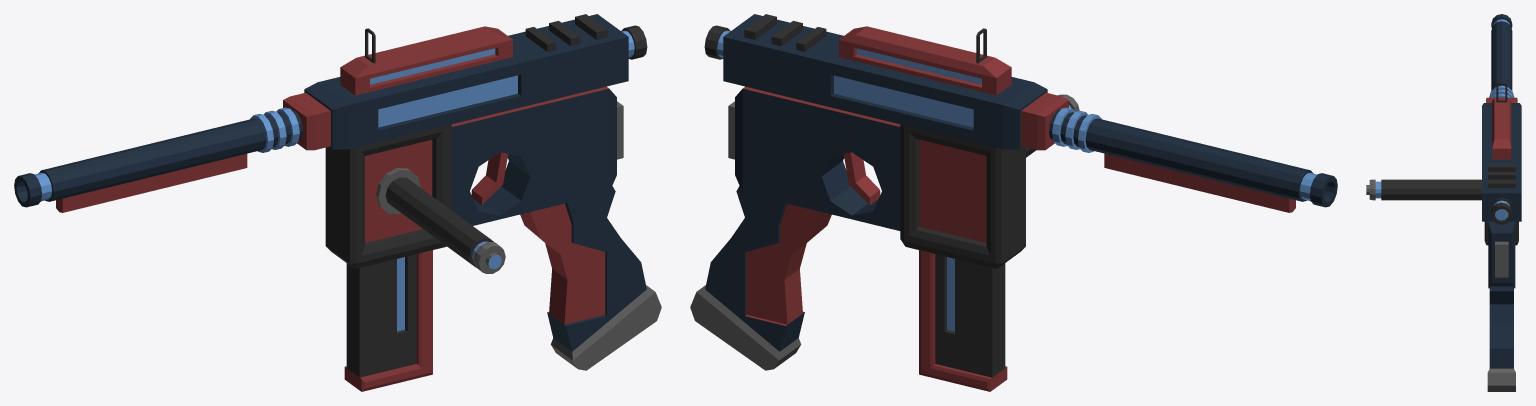
File: FuturisticPistol.fbx
3 views of the same model, side by side, from view 1: azimuth 30°, elevation 25°; view 2: azimuth 150°, elevation 25°; view 3: azimuth 270°, elevation 25° (orthographic). The views are drawn at different scales.
Visible parts, largest first — view 1: Pistol, Cylinder.004; view 2: Pistol; view 3: Pistol, Cylinder.004.
Part boxes in pixels (x1,y1,x2,y2): Pistol: (14, 14, 661, 391); Cylinder.004: (375, 168, 505, 273); Pistol: (690, 14, 1337, 391); Pistol: (1482, 14, 1521, 391); Cylinder.004: (1366, 179, 1481, 200).
Size of the model in its own units: 1337 by 777 by 449.
